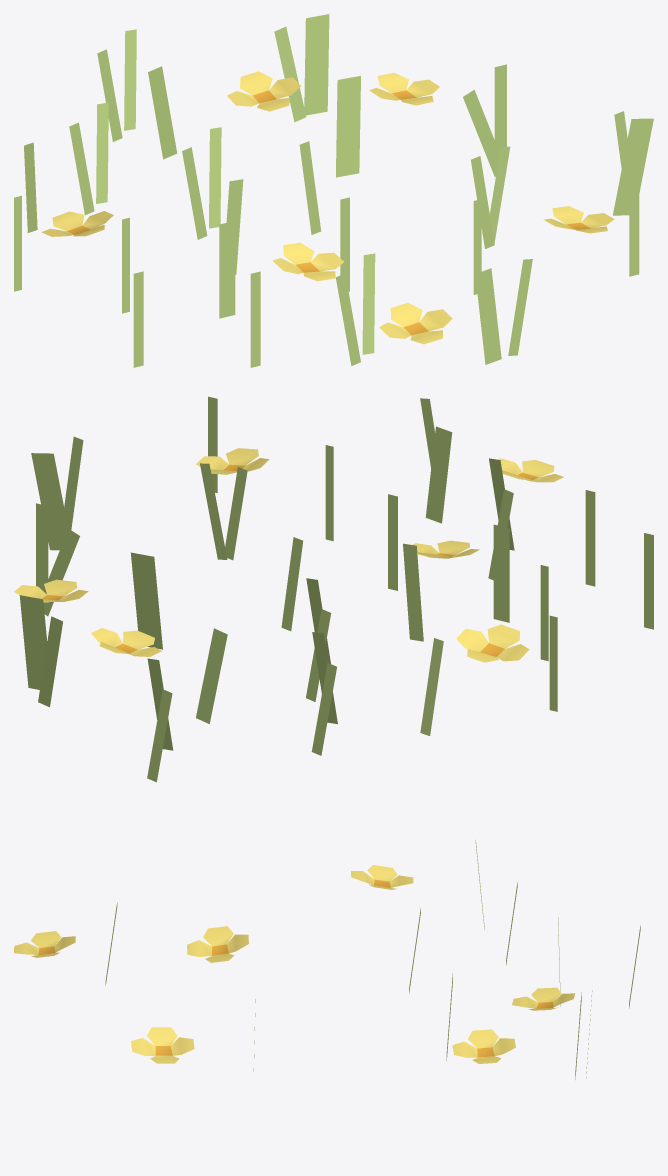
File: M_Plants_Flowers_8.fbx
3 renders of one model, top to bottom at view 1: azimuth 30°, elevation 25°; view 2: azimuth 150°, elevation 25°; view 3: azimuth 270°, elevation 25°, orthographic. The views are drawn at different scales.
Visible parts, largest first — view 1: M_Plants_Flowers_8; view 2: M_Plants_Flowers_8; view 3: M_Plants_Flowers_8.
Boxes of the visible parts, bbox=[...] form: M_Plants_Flowers_8: bbox=[14, 14, 653, 367]; M_Plants_Flowers_8: bbox=[14, 396, 653, 782]; M_Plants_Flowers_8: bbox=[14, 840, 640, 1079].
Size of the model in its own units: 1.46 by 0.277 by 1.53.
